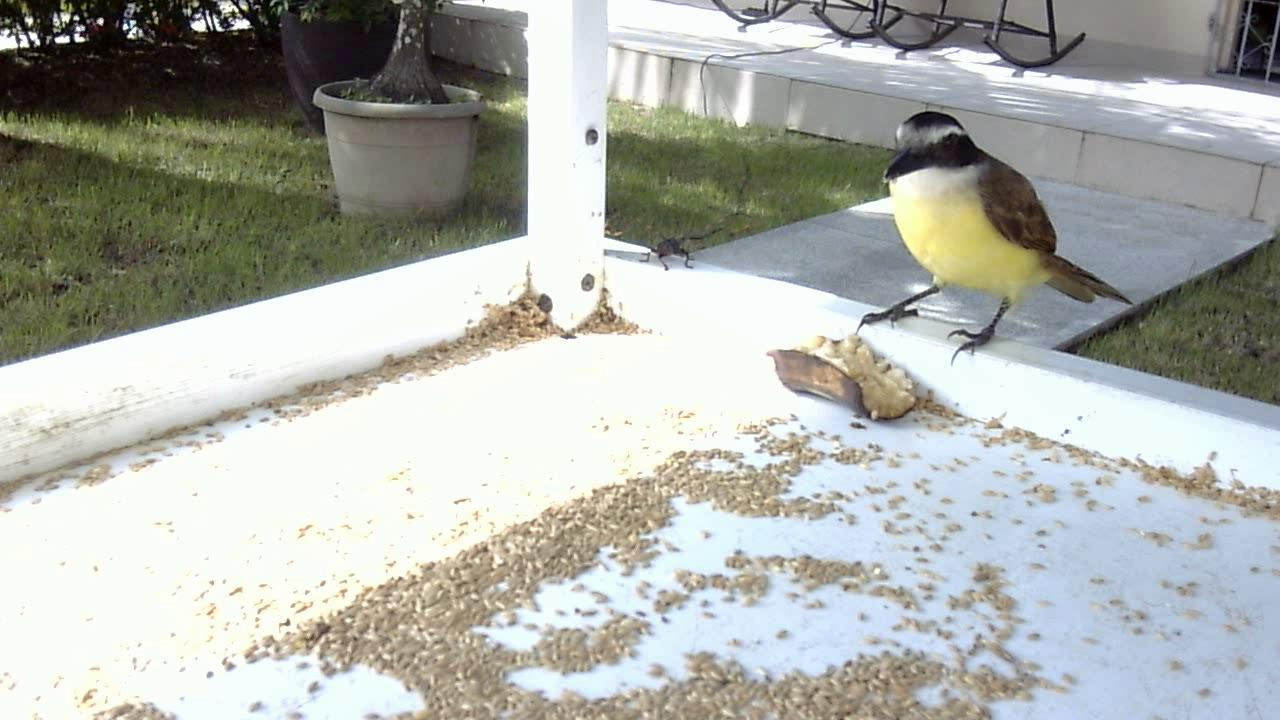bem_te_vi: (840, 103, 1131, 378)
